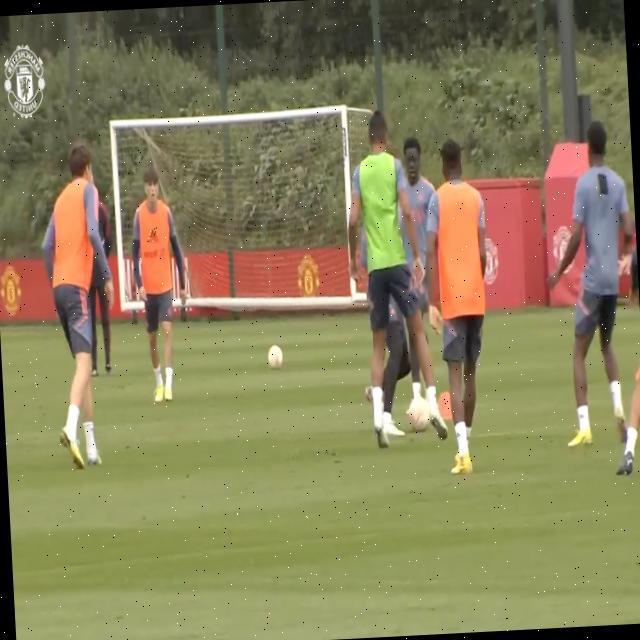Adidas: (147, 226, 161, 245)
